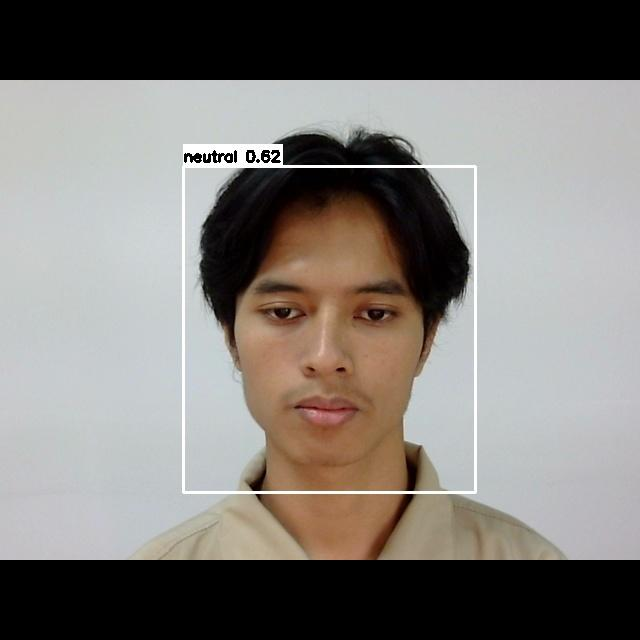Natural: (233, 260, 441, 460)
